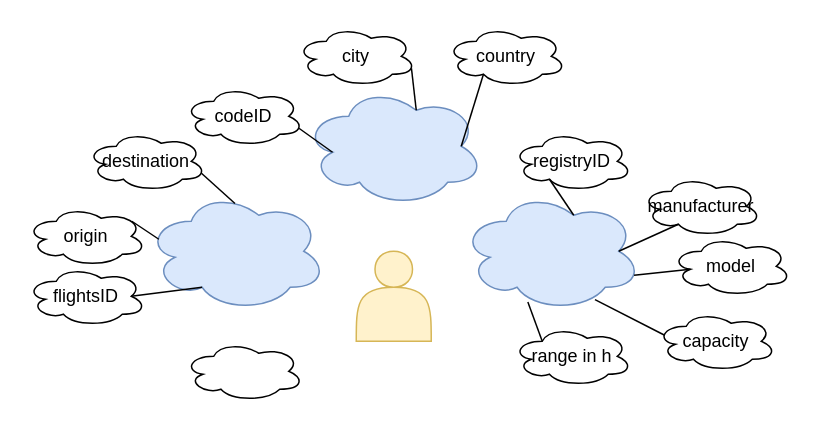
The diagram is 818 pixels wide and 428 high, and some of its shapes have lost their labels. The box of each missing label's shape, as (x1, y1, x2, y2) in pixels:
airports: (302, 85, 484, 206)
date: (182, 340, 304, 401)
flights: (145, 190, 326, 311)
planes: (460, 190, 641, 311)
